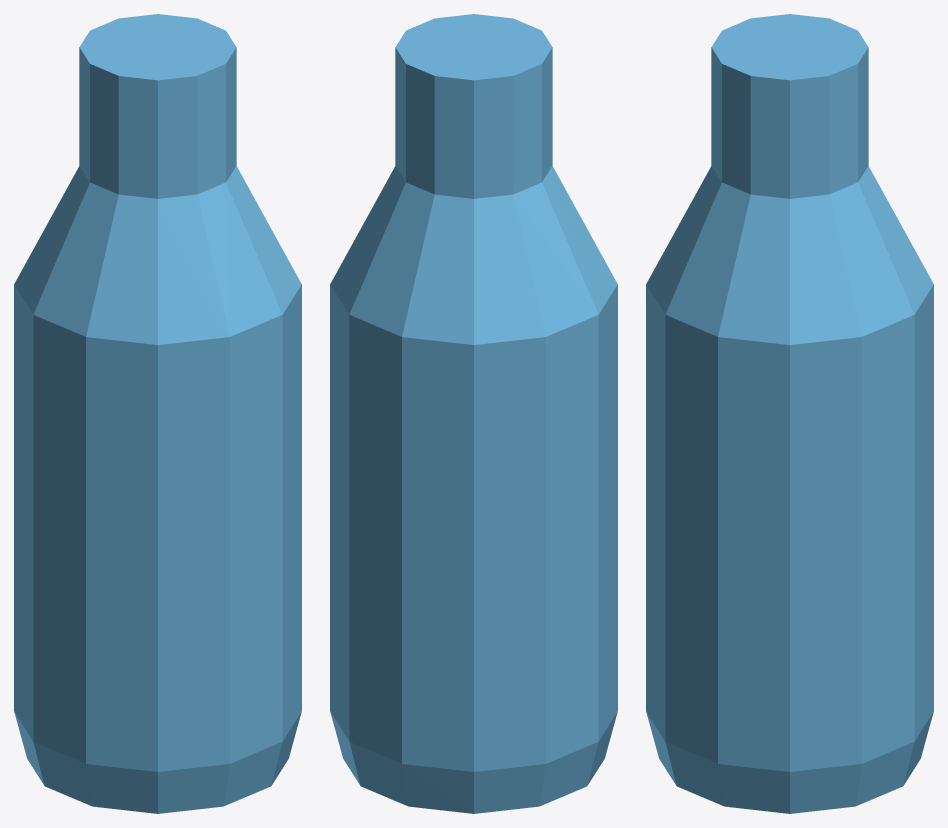
File: water_bottle.obj
3 views of the same model, side by side, from view 1: azimuth 30°, elevation 25°; view 2: azimuth 150°, elevation 25°; view 3: azimuth 270°, elevation 25° (orthographic).
Visible parts, largest first — view 1: water_bottle; view 2: water_bottle; view 3: water_bottle.
Boxes of the visible parts, box(x1,y1,x2,y2) form: water_bottle: box(14, 14, 301, 813); water_bottle: box(330, 14, 617, 813); water_bottle: box(646, 14, 933, 813).
Size of the model in its own units: 0.11 by 0.3 by 0.11.
